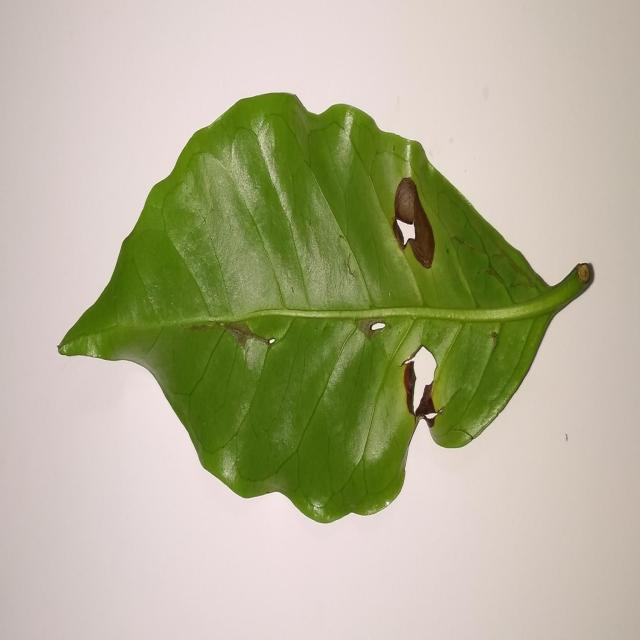Enfermedad-Antracnosis: (56, 92, 596, 526)
